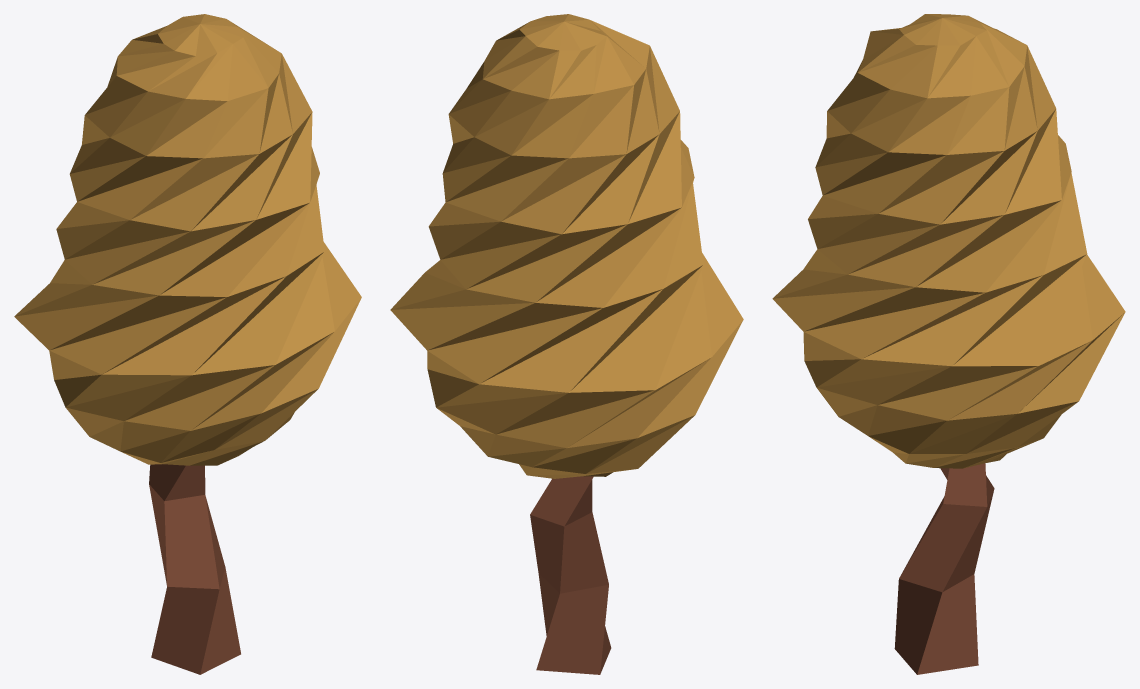
The model's file is Tree_14_autumn_mat.fbx.
3 renders of one model, left to right at view 1: azimuth 30°, elevation 25°; view 2: azimuth 150°, elevation 25°; view 3: azimuth 270°, elevation 25°, orthographic. The views are drawn at different scales.
Parts seen in each view (by area): view 1: Tree_14_autumn_mat; view 2: Tree_14_autumn_mat; view 3: Tree_14_autumn_mat.
Part boxes in pixels (box(x1,y1,x2,y2)): Tree_14_autumn_mat: box(14, 14, 361, 674); Tree_14_autumn_mat: box(390, 14, 743, 674); Tree_14_autumn_mat: box(772, 14, 1125, 674).
Bounding box in the file's own units: 4.17 × 8.91 × 4.44.
